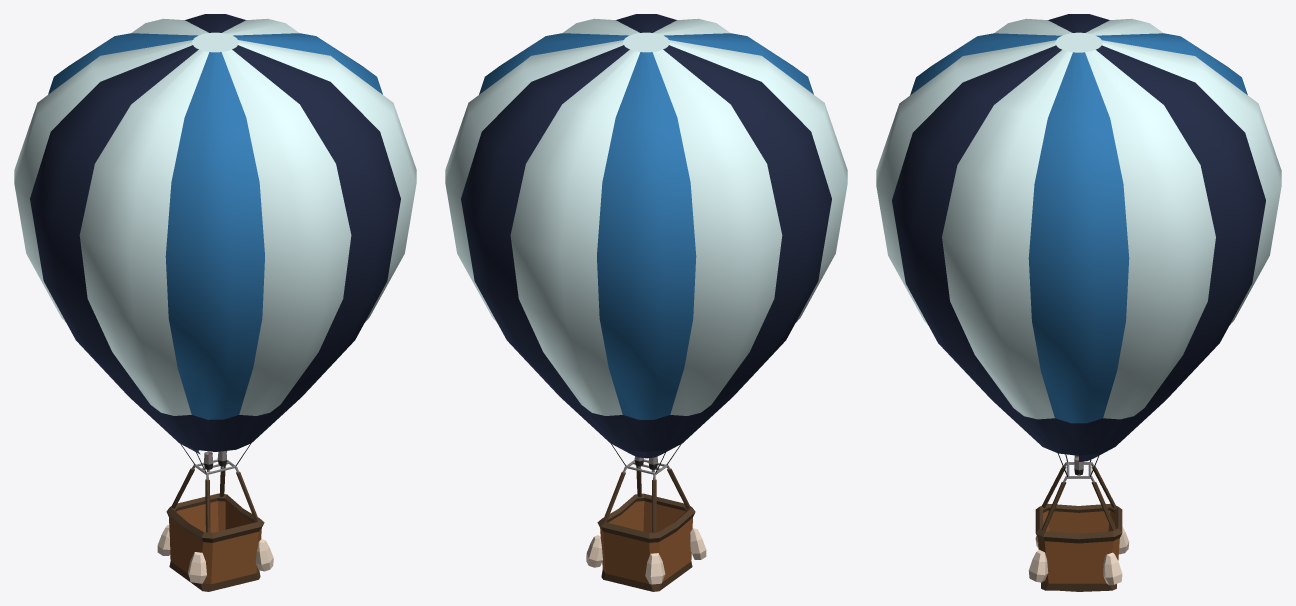
The model's file is Airballoons1.fbx.
3 views of the same model, side by side, from view 1: azimuth 30°, elevation 25°; view 2: azimuth 150°, elevation 25°; view 3: azimuth 270°, elevation 25° (orthographic).
Parts seen in each view (by area): view 1: Airballoons1; view 2: Airballoons1; view 3: Airballoons1.
Boxes of the visible parts, x1,y1,x2,y2 form: Airballoons1: [14, 14, 416, 591]; Airballoons1: [445, 14, 847, 591]; Airballoons1: [876, 14, 1281, 591].
Bounding box in the file's own units: 1390 × 2036 × 1390.
Materials: 1 (1 with a texture image).
